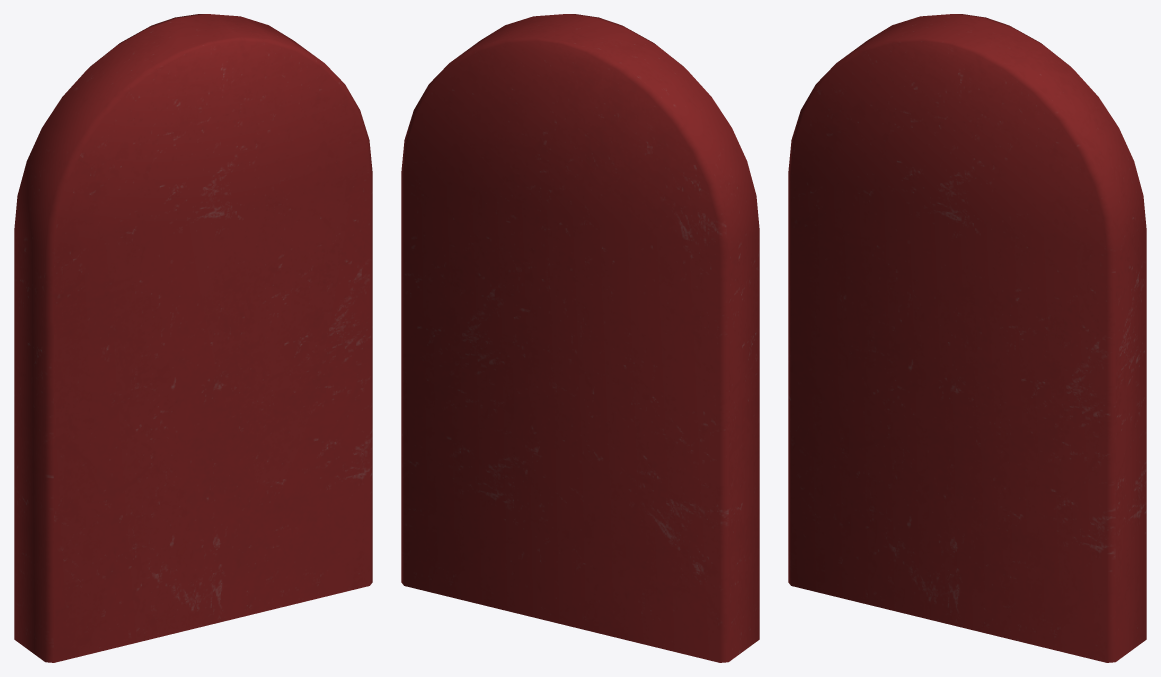
Rendered from GraveStone_1.fbx.
The picture shows the model from 3 angles, left to right: view 1: azimuth 30°, elevation 25°; view 2: azimuth 150°, elevation 25°; view 3: azimuth 330°, elevation 25°; orthographic projection.
Visible parts, largest first — view 1: GraveStone_1; view 2: GraveStone_1; view 3: GraveStone_1.
Part boxes in pixels (x1,y1,x2,y2): GraveStone_1: (14, 14, 372, 662); GraveStone_1: (401, 14, 759, 662); GraveStone_1: (788, 14, 1146, 662).
Bounding box in the file's own units: 58.48 × 99.2 × 11.39.
